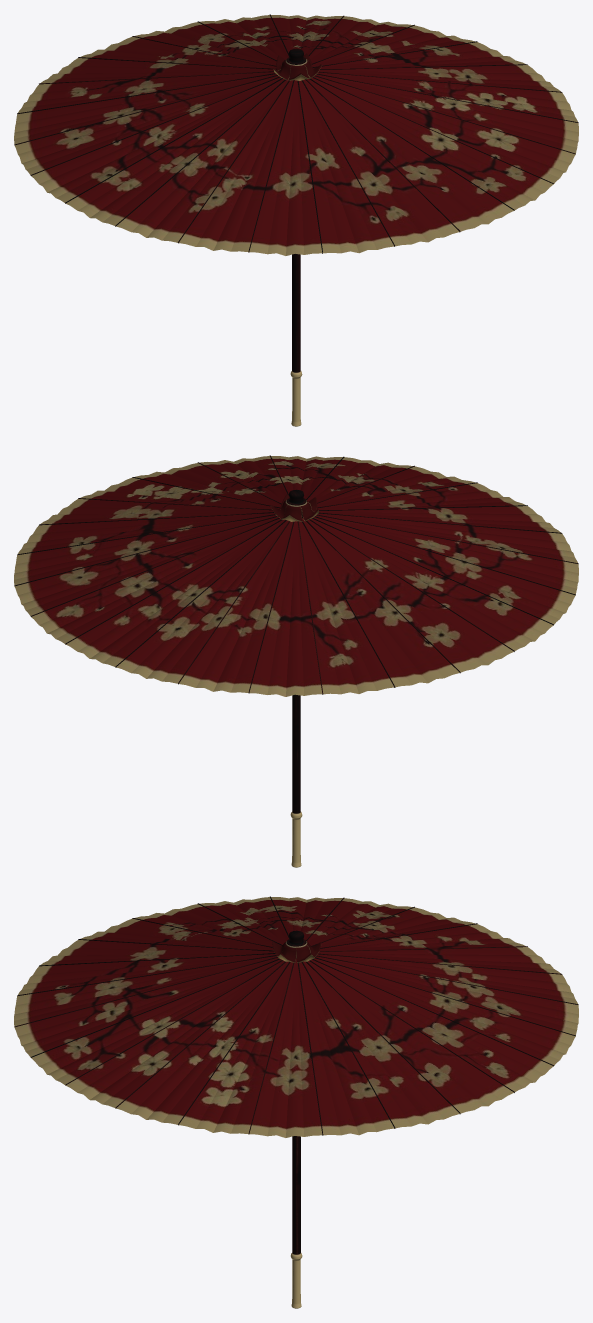
File: parasol.glb
The picture shows the model from 3 angles, top to bottom: view 1: azimuth 30°, elevation 25°; view 2: azimuth 150°, elevation 25°; view 3: azimuth 270°, elevation 25°; orthographic projection.
Visible parts, largest first — view 1: polySurface122_blinn3_0; view 2: polySurface122_blinn3_0; view 3: polySurface122_blinn3_0.
Part boxes in pixels (bbox=[...]): polySurface122_blinn3_0: bbox=[14, 14, 578, 426]; polySurface122_blinn3_0: bbox=[14, 455, 578, 867]; polySurface122_blinn3_0: bbox=[14, 896, 578, 1308].
Size of the model in its own units: 2.4 by 1.75 by 2.4.
1 material, 1 textured.
